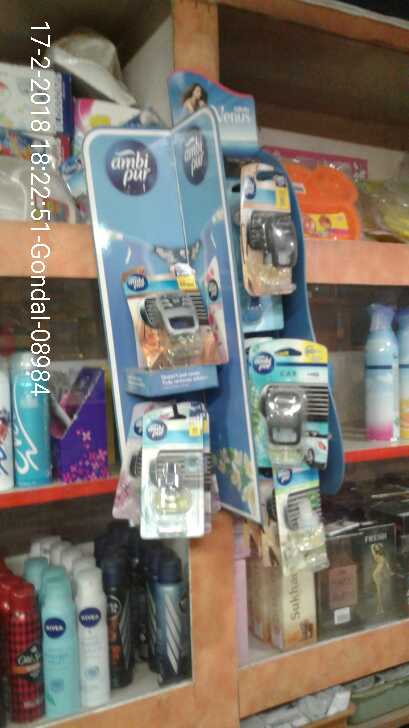ambipure: (116, 254, 230, 375), (244, 330, 328, 466), (228, 157, 299, 301), (138, 408, 208, 542), (276, 464, 332, 576)
